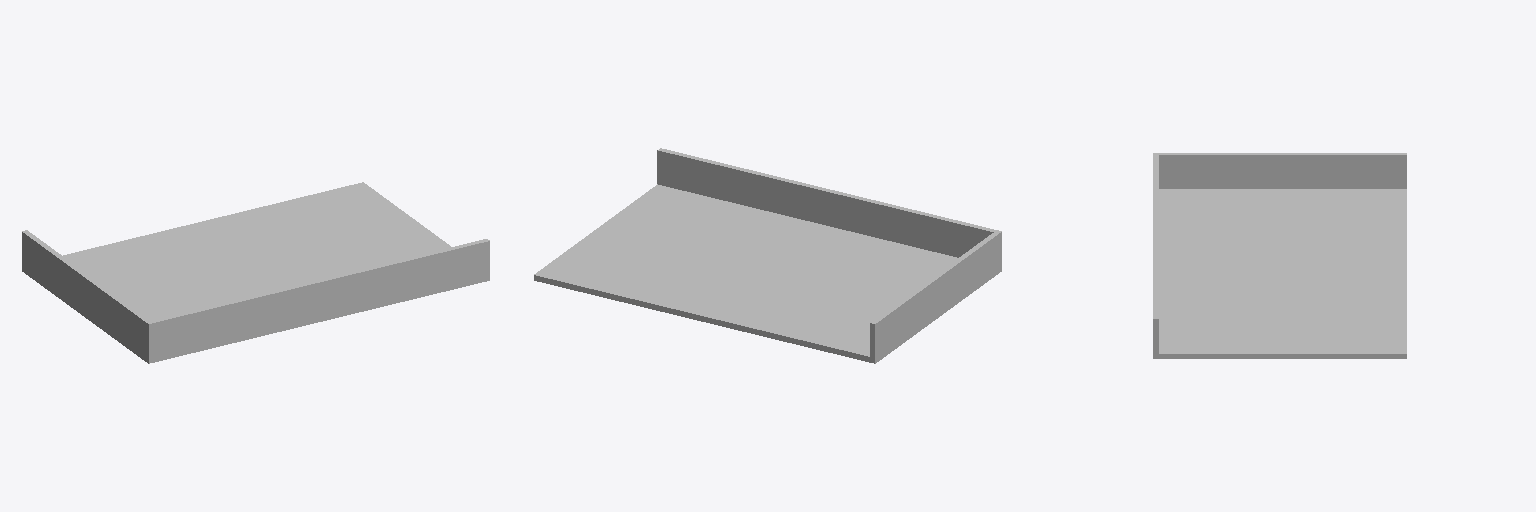
File: 2x2roof (1)-3.obj
The picture shows the model from 3 angles: view 1: azimuth 30°, elevation 25°; view 2: azimuth 150°, elevation 25°; view 3: azimuth 270°, elevation 25°; orthographic projection.
Visible parts, largest first — view 1: 2x2roof (1)-3; view 2: 2x2roof (1)-3; view 3: 2x2roof (1)-3.
Part boxes in pixels (left/top/right/bottom): 2x2roof (1)-3: left=22, top=182, right=489, bottom=363; 2x2roof (1)-3: left=534, top=148, right=1001, bottom=363; 2x2roof (1)-3: left=1153, top=153, right=1406, bottom=358.
Size of the model in its own units: 126 by 14 by 81.